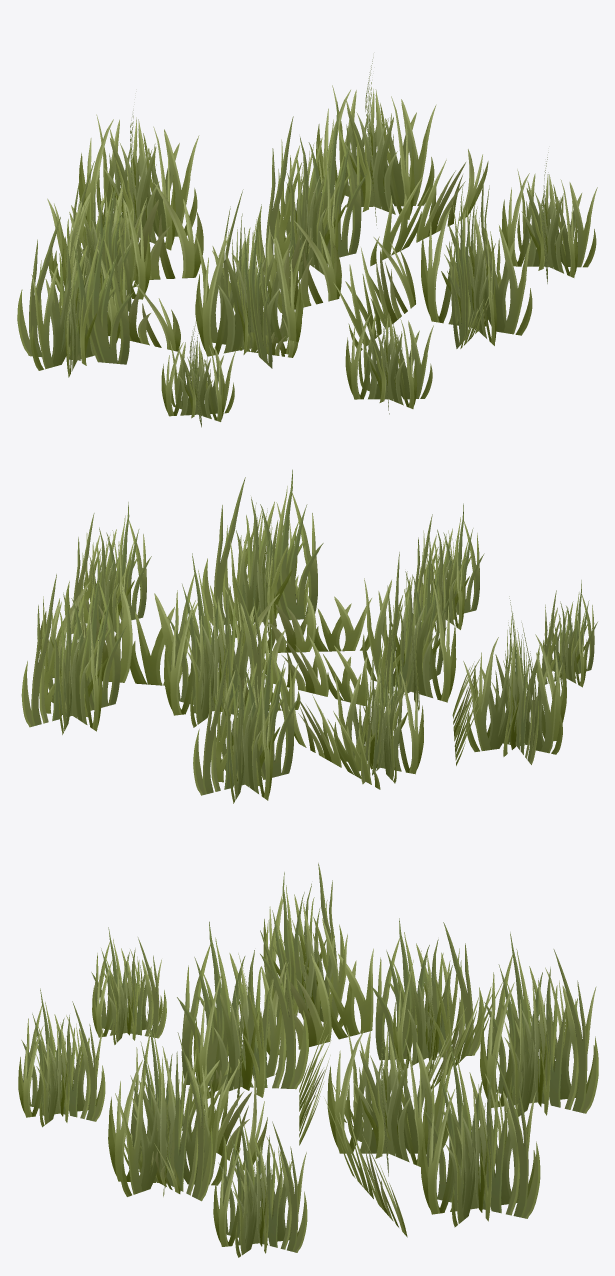
The model's file is GrassChunk4.fbx.
3 views of the same model, one above another, from view 1: azimuth 30°, elevation 25°; view 2: azimuth 150°, elevation 25°; view 3: azimuth 270°, elevation 25° (orthographic). The views are drawn at different scales.
Parts seen in each view (by area): view 1: GrassChunk4; view 2: GrassChunk4; view 3: GrassChunk4.
Boxes of the visible parts, x1=… form: GrassChunk4: x1=17, y1=57, x2=597, y2=427; GrassChunk4: x1=21, y1=469, x2=597, y2=803; GrassChunk4: x1=18, y1=863, x2=598, y2=1257.
Size of the model in its own units: 0.9377 by 0.2737 by 0.8523.
